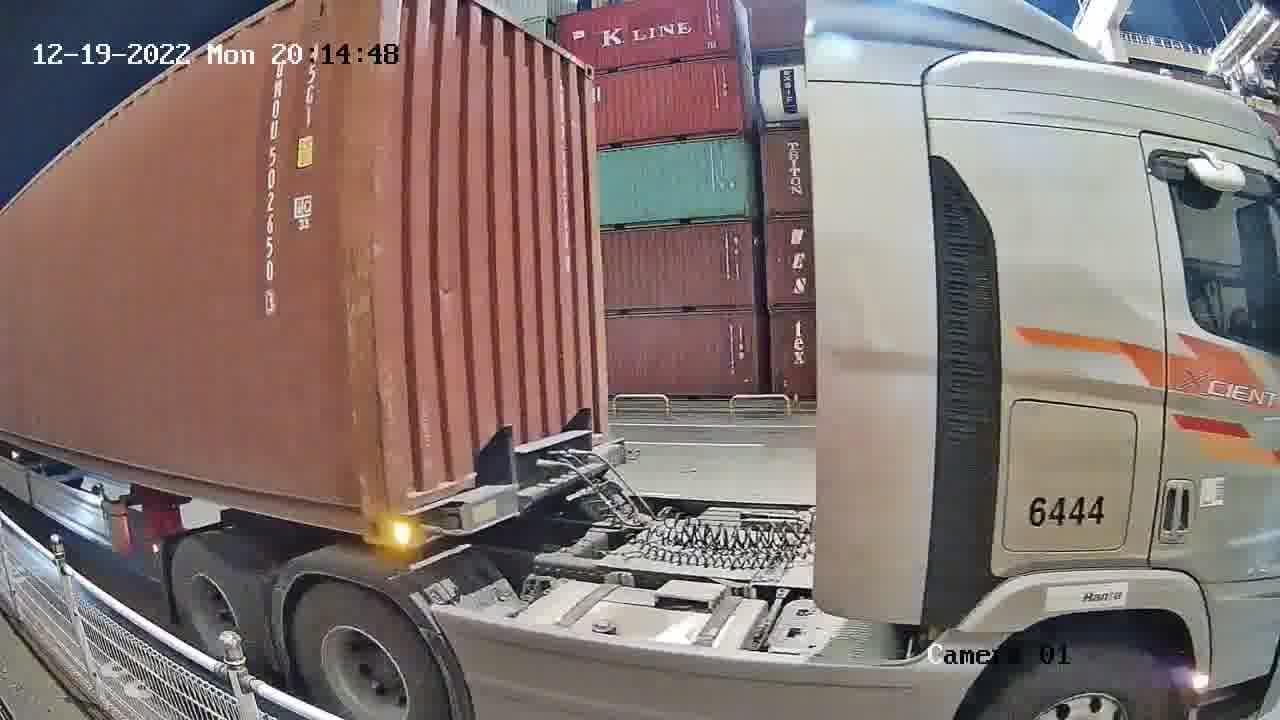Chassis: (398, 440, 620, 548)
Hole_R: (337, 482, 388, 541)
Tire: (292, 585, 440, 717), (172, 536, 266, 668)
